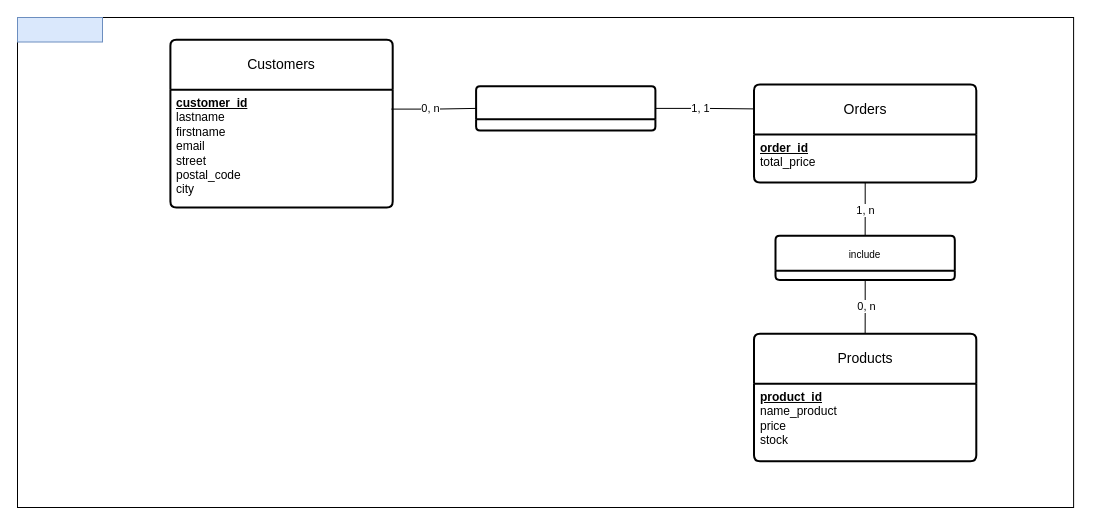
This 1105x525 diagram has some shape labels left out. The centre of each missing label's shape, as x and y in pixels:
is passed by: point (565, 108)
MCD: point (59, 29)
